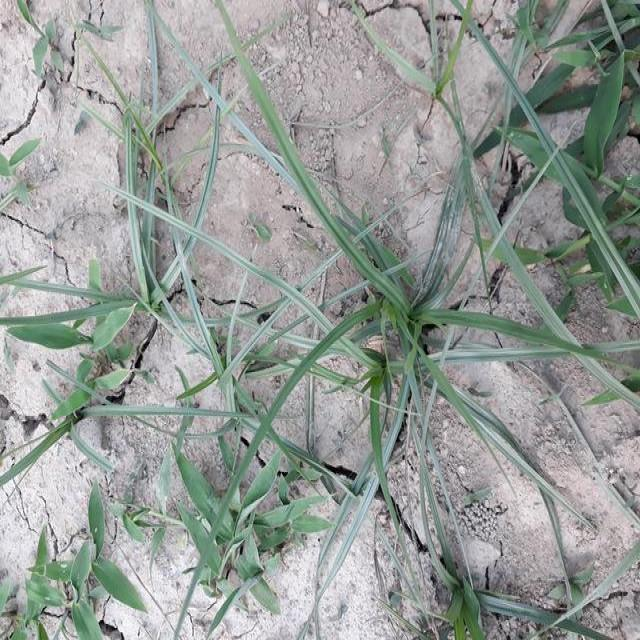weed: (228, 78, 631, 532), (90, 63, 218, 332), (326, 164, 438, 430), (171, 456, 300, 617), (32, 524, 144, 640), (576, 4, 640, 157), (23, 302, 136, 358)
